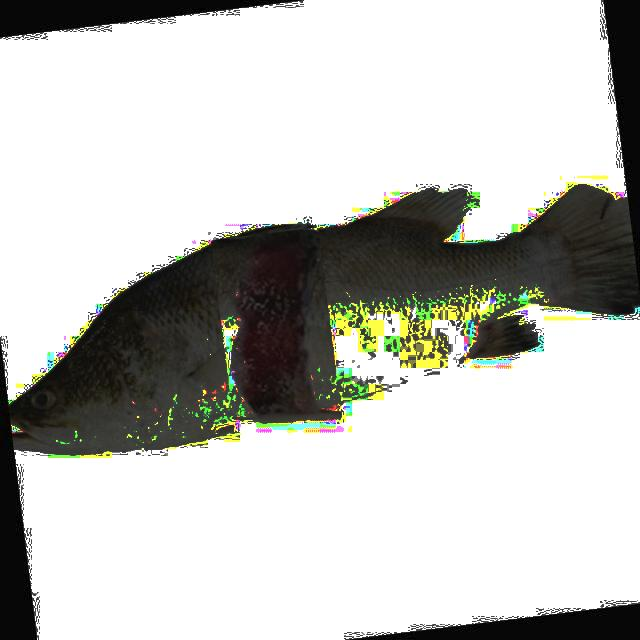Aeromonas Septicemia: (10, 185, 640, 451), (10, 185, 640, 450), (10, 185, 640, 450)
